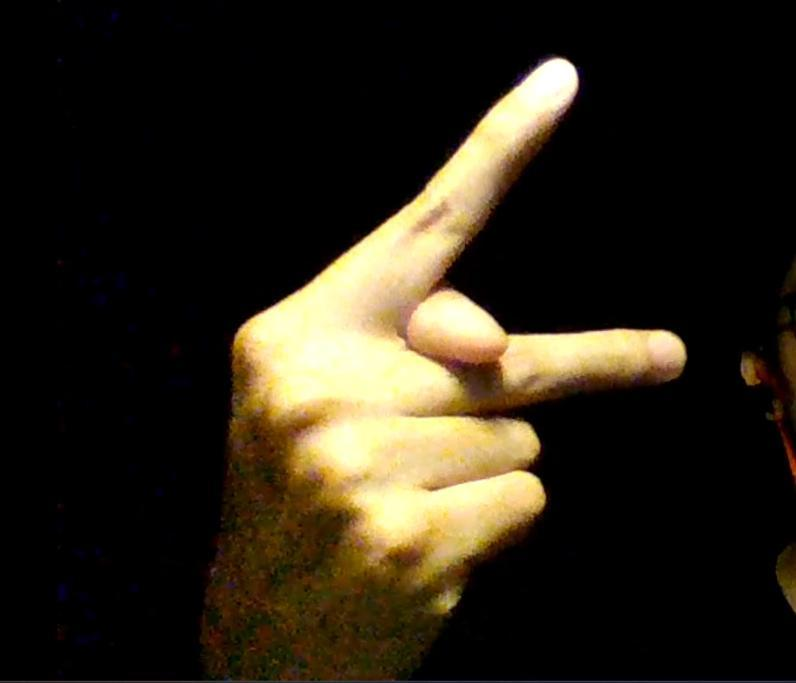k: (224, 58, 687, 683)
